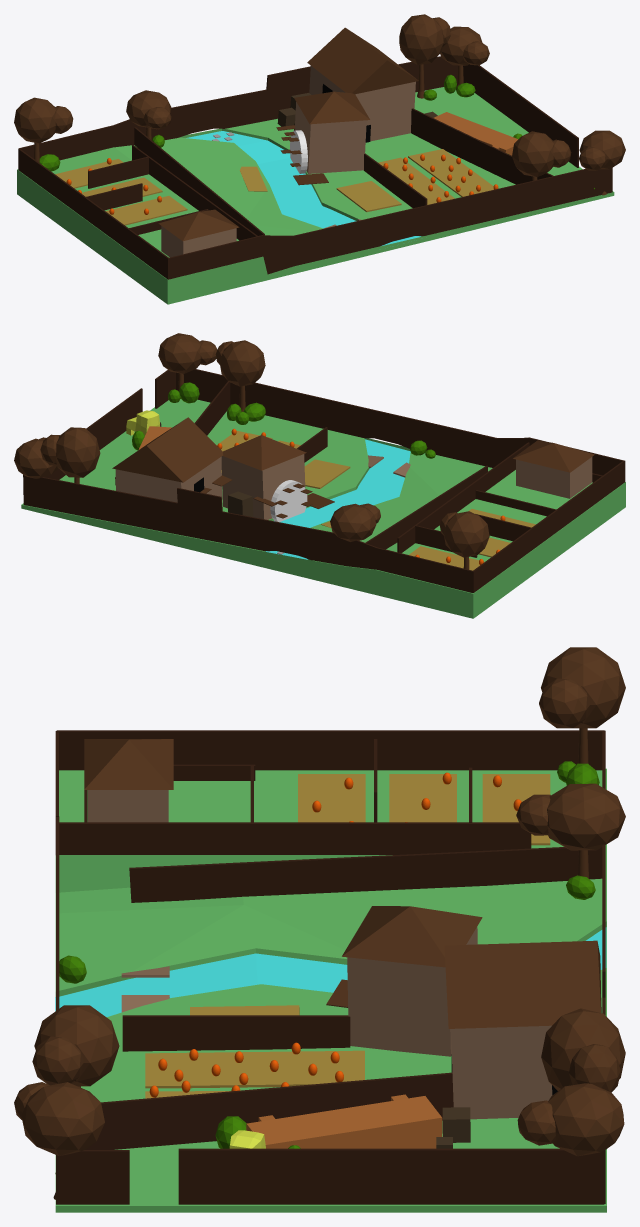
File: mapafixed01.fbx
3 renders of one model, top to bottom at view 1: azimuth 30°, elevation 25°; view 2: azimuth 150°, elevation 25°; view 3: azimuth 270°, elevation 25°, orthographic. The views are drawn at different scales.
Parts seen in each view (by area): view 1: superficie, vallaperimetral.005, granero.001, vallaperimetral.004, molino, río, vallaperimetral.001, valladesnivel.003, valladesnivel.004, casa, arbol.003, vallaperimetral.002 (+21 smaller); view 2: superficie, vallaperimetral.004, vallaperimetral.005, granero.001, molino, vallaperimetral.001, casa, río, arbol.003, vallaperimetral.003, valladesnivel.001, arbol.005 (+19 smaller); view 3: superficie, valladesnivel.003, granero.001, vallaperimetral.001, valladesnivel.000, valladesnivel.001, molino, valladesnivel.004, valladesnivel.005, río, trailertumbado, casa (+16 smaller).
Part boxes in pixels (x1,y1,x2,y2): superficie: (17, 87, 614, 304); vallaperimetral.005: (263, 168, 612, 274); granero.001: (307, 27, 418, 141); vallaperimetral.004: (145, 56, 457, 139); molino: (294, 91, 369, 173); río: (186, 131, 420, 245); vallaperimetral.001: (18, 148, 168, 279); valladesnivel.003: (463, 64, 578, 167); valladesnivel.004: (411, 108, 553, 184); casa: (158, 209, 239, 257); arbol.003: (399, 14, 450, 98); vallaperimetral.002: (168, 235, 263, 279); superficie: (21, 399, 625, 618); vallaperimetral.004: (23, 475, 345, 565); vallaperimetral.005: (176, 369, 528, 467); granero.001: (112, 417, 222, 502); molino: (221, 435, 306, 519); vallaperimetral.001: (472, 460, 625, 592); casa: (513, 440, 594, 498); río: (265, 439, 410, 559); arbol.003: (40, 427, 100, 483); vallaperimetral.003: (377, 547, 472, 592); valladesnivel.001: (397, 442, 529, 553); arbol.005: (215, 340, 265, 411); superficie: (55, 768, 606, 1212); valladesnivel.003: (178, 1148, 603, 1204); granero.001: (444, 940, 601, 1119); vallaperimetral.001: (56, 730, 604, 770); valladesnivel.000: (129, 847, 602, 902); valladesnivel.001: (59, 822, 531, 854); molino: (342, 906, 482, 1056); valladesnivel.004: (85, 1072, 453, 1149); valladesnivel.005: (122, 1015, 350, 1051); río: (55, 927, 606, 1017); trailertumbado: (246, 1094, 442, 1148); casa: (84, 739, 173, 822).
Bounding box in the file's own units: 7527 × 1505 × 4707.
